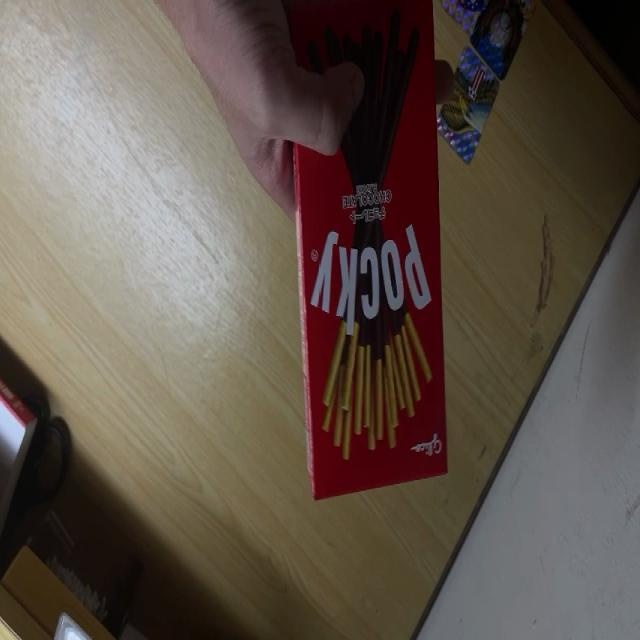Pocky: (283, 0, 449, 498)
